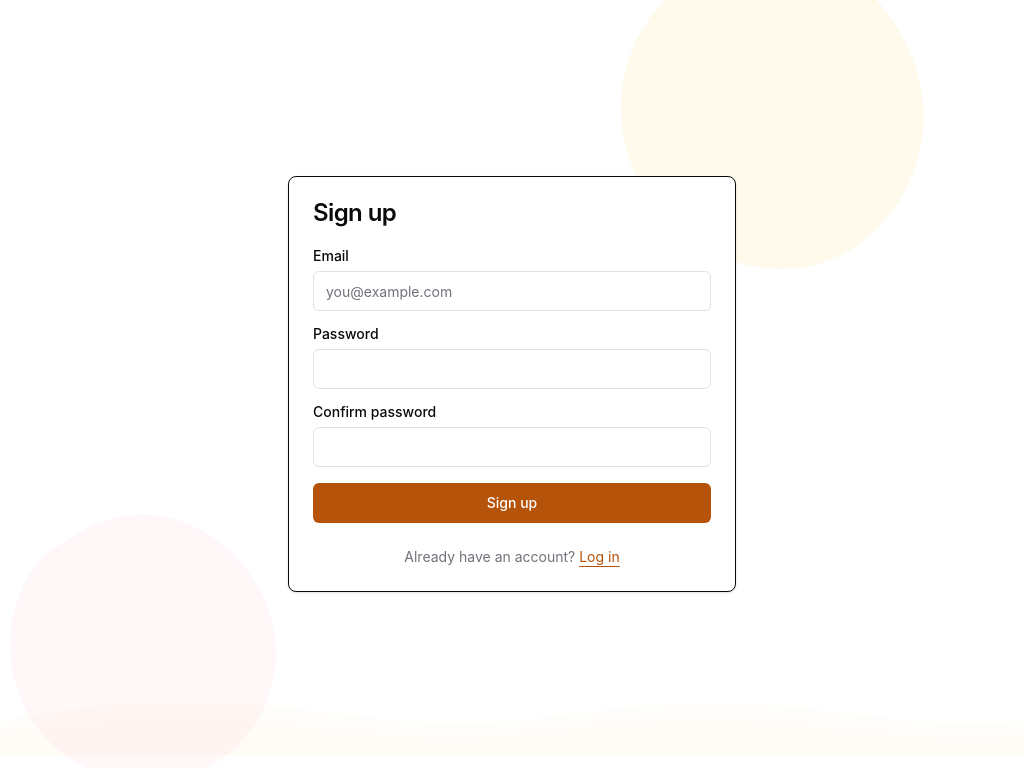
Scenario: SignupView › shows error when password is too short
Type "test@test.com" into the field with id "signup-email" at (512, 291), box [313,271,711,311]
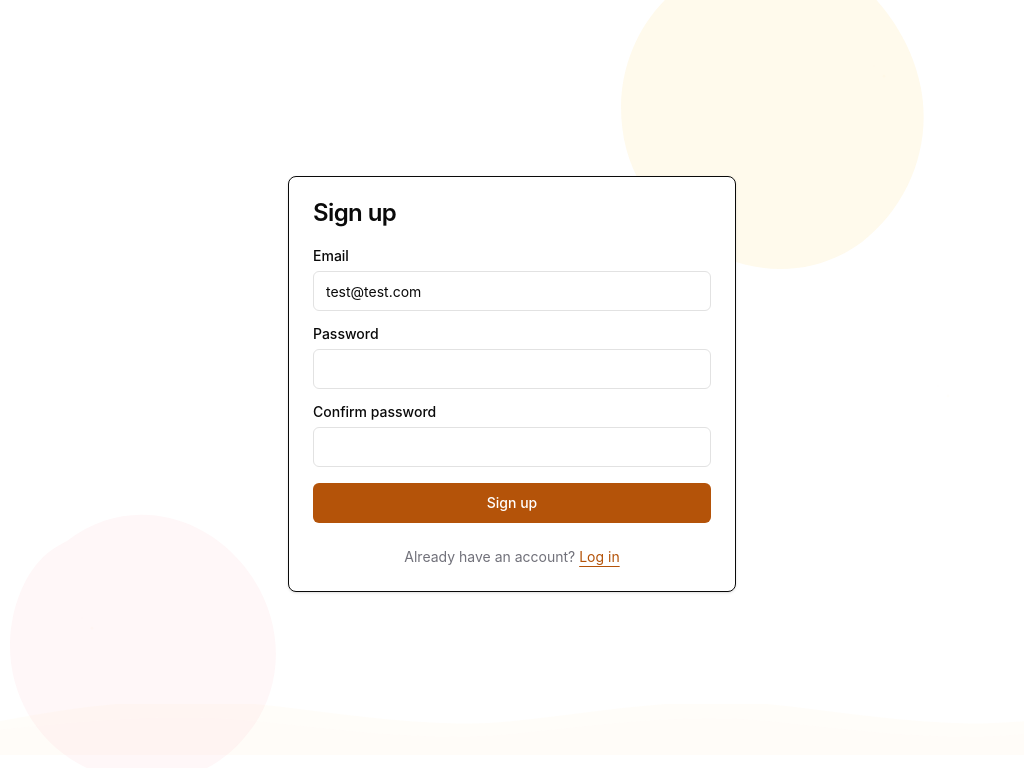
Type "short" into the password field with id "signup-password" at (512, 369), box [313,349,711,389]
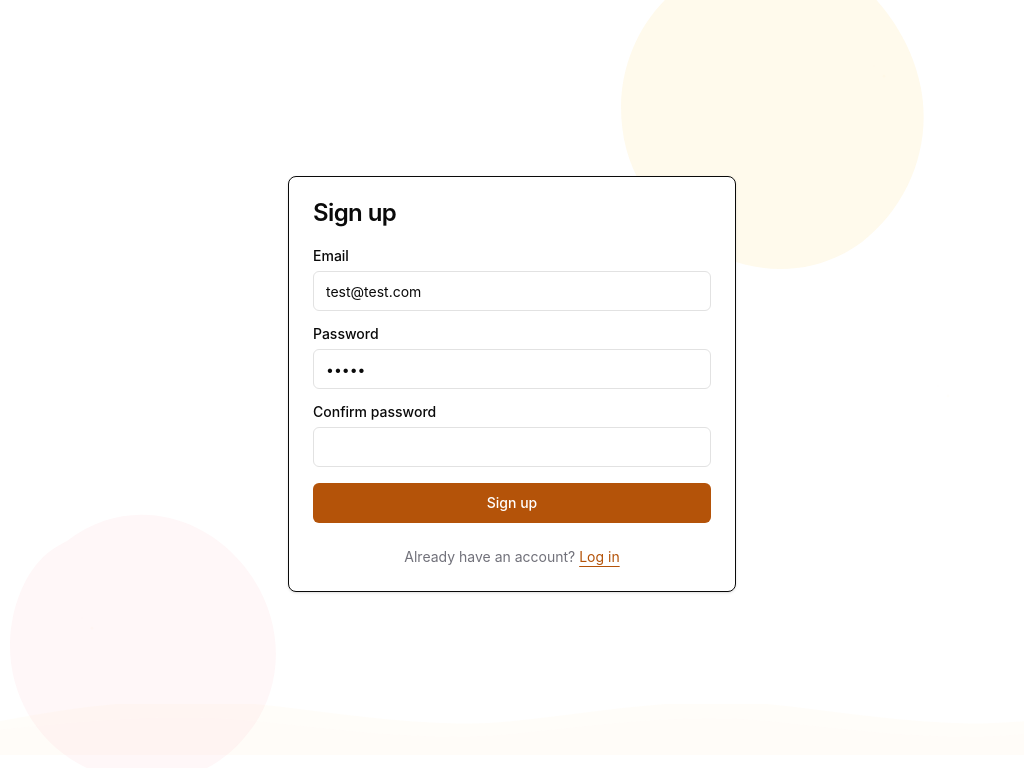
Type "short" into the password field with id "signup-confirm" at (512, 447), box [313,427,711,467]
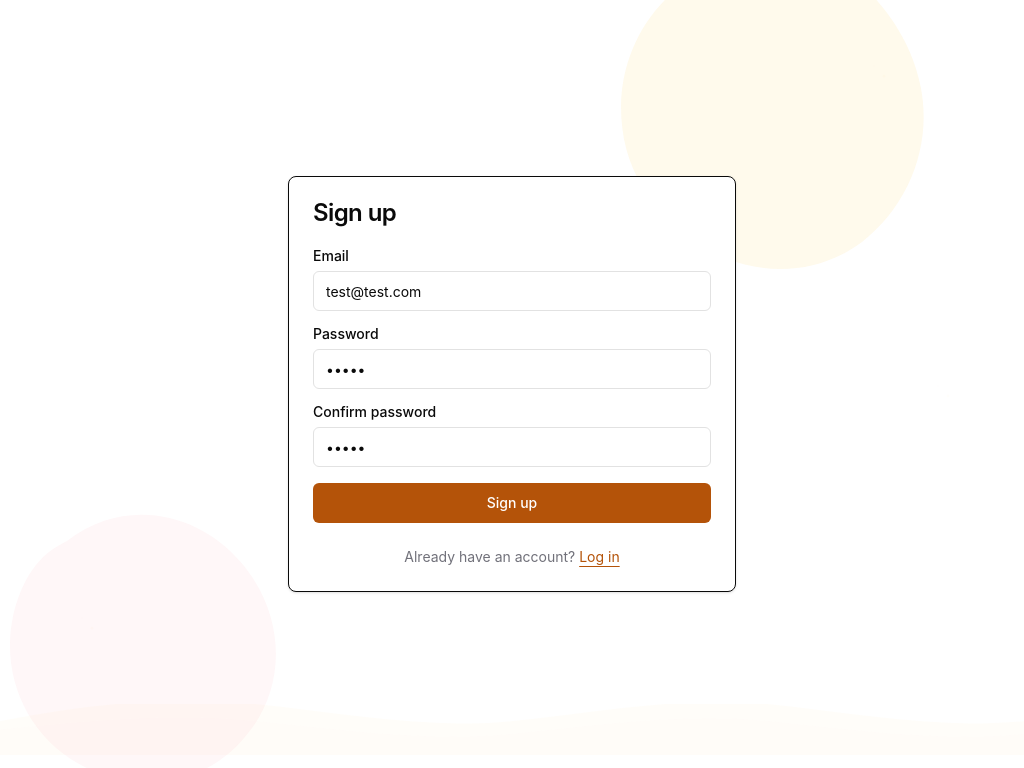
Submit the form, box [313,249,711,523]
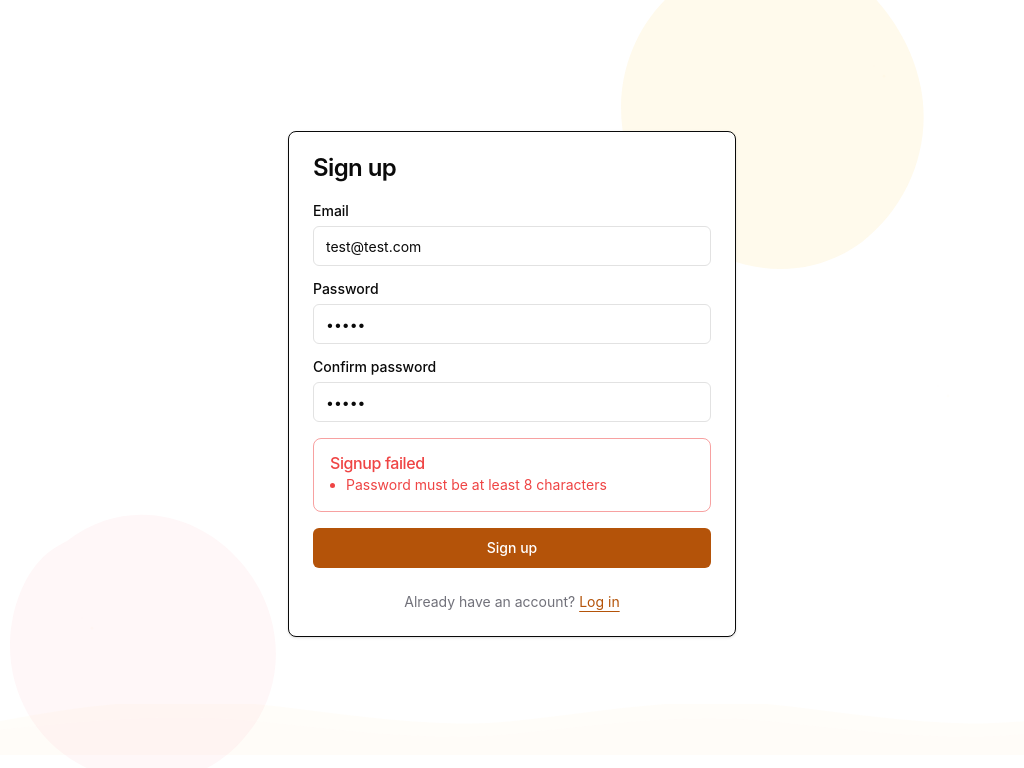
Result: the message "Signup failed Password must be at least 8 characters" is shown at [313,438,711,512]
